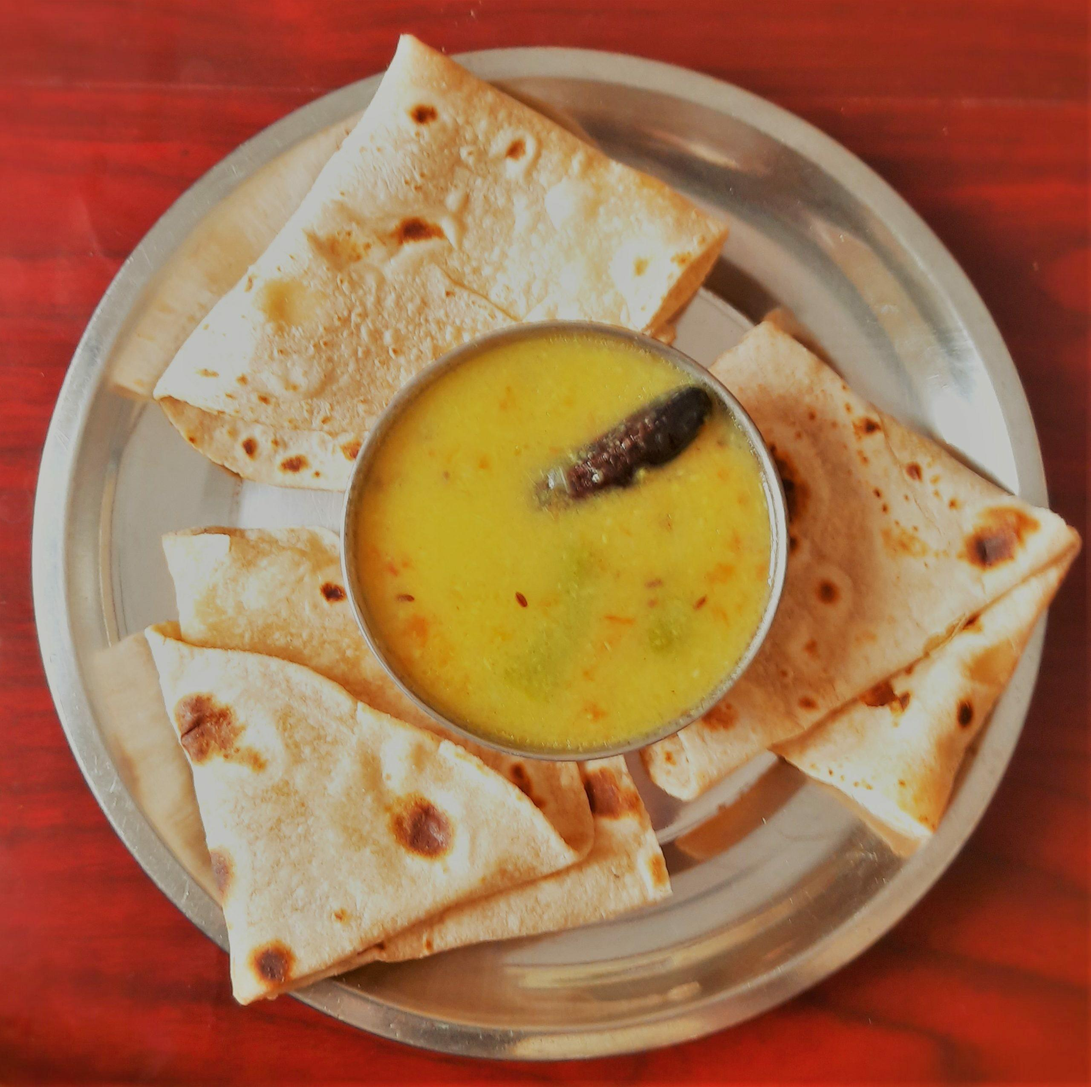Dal: (354, 337, 767, 747)
